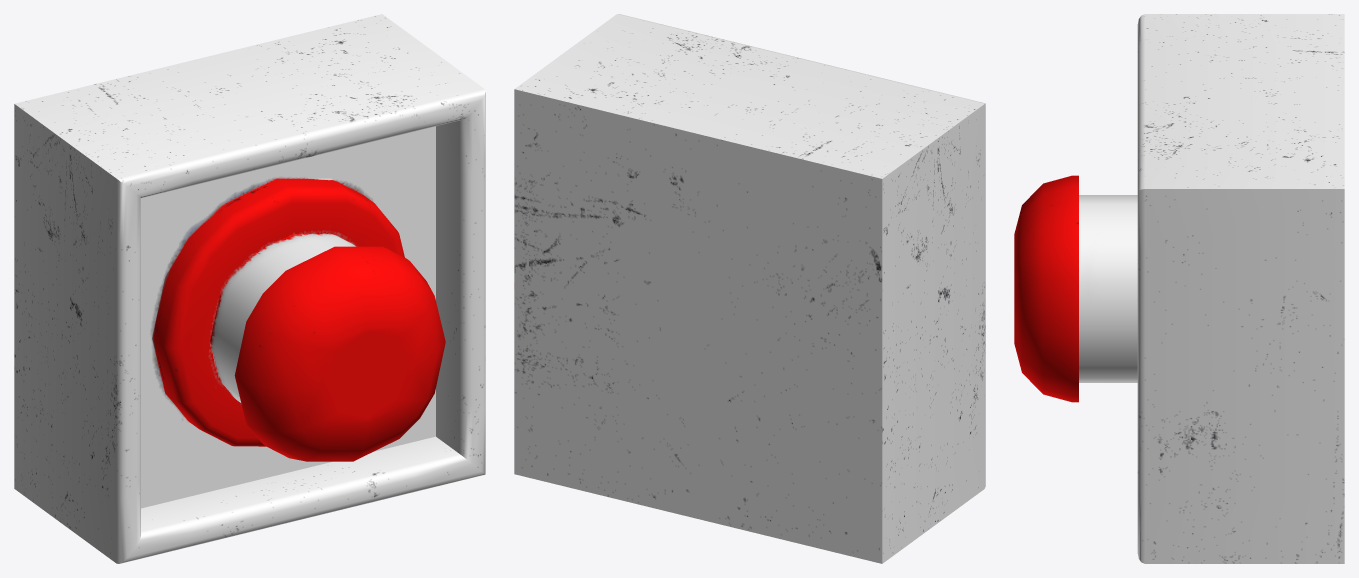
The model's file is stop_button.dae.
3 renders of one model, left to right at view 1: azimuth 30°, elevation 25°; view 2: azimuth 150°, elevation 25°; view 3: azimuth 270°, elevation 25°, orthographic. The views are drawn at different scales.
Visible parts, largest first — view 1: Stop Button; view 2: Stop Button; view 3: Stop Button.
Part boxes in pixels (x1=…): Stop Button: x1=14, y1=14, x2=485, y2=563; Stop Button: x1=514, y1=14, x2=985, y2=563; Stop Button: x1=1014, y1=14, x2=1344, y2=563.
Size of the model in its own units: 2 by 1.6 by 2.
Materials: 1 (1 with a texture image).
